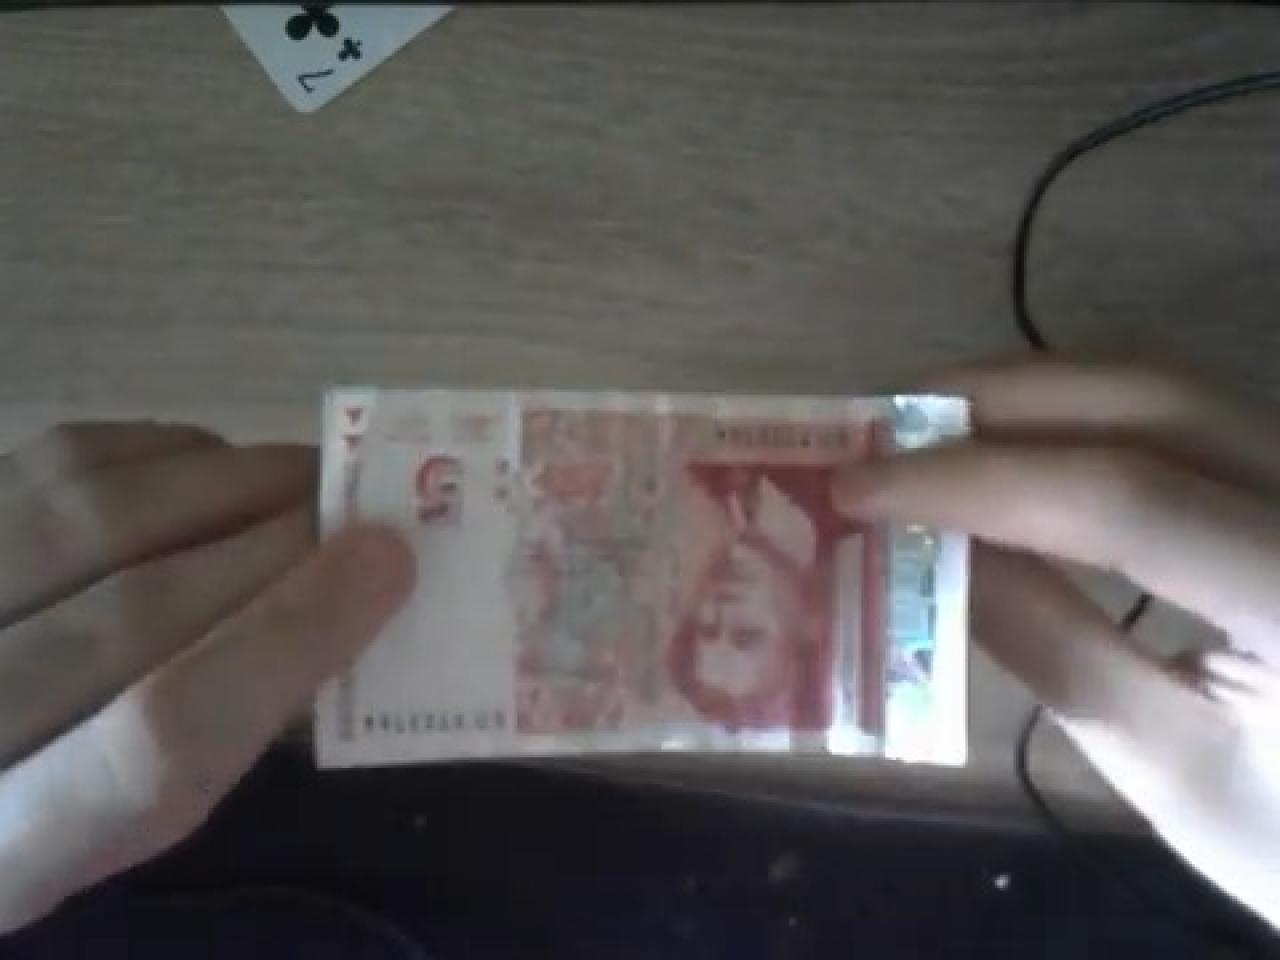5leva: (666, 456, 835, 728)
